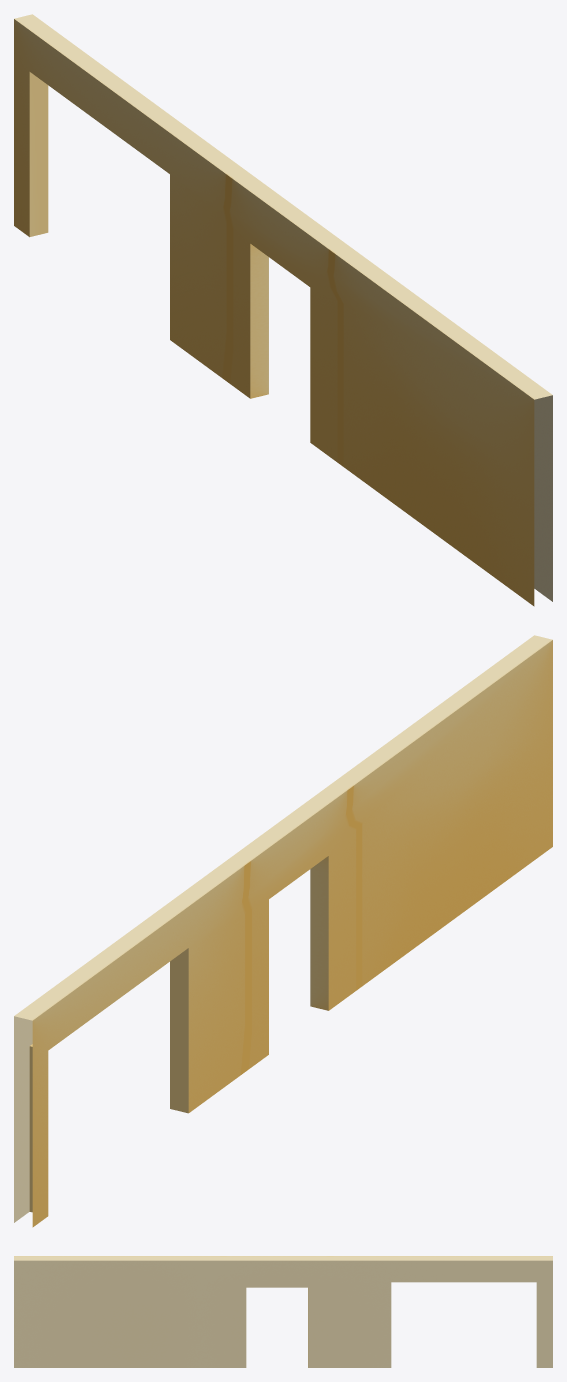
Rendered from Wallmain_front.fbx.
3 renders of one model, top to bottom at view 1: azimuth 30°, elevation 25°; view 2: azimuth 150°, elevation 25°; view 3: azimuth 270°, elevation 25°, orthographic. The views are drawn at different scales.
Parts seen in each view (by area): view 1: pCube5; view 2: pCube5; view 3: pCube5.
Part boxes in pixels (x1,y1,x2,y2): pCube5: (14,14,552,606); pCube5: (14,635,552,1227); pCube5: (14,1256,552,1367).
Bounding box in the file's own units: 0.3677 × 3.91 × 17.82.
